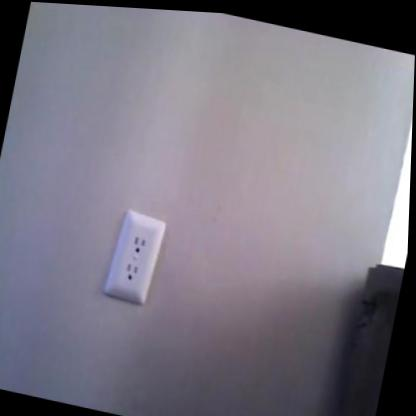OUTLET: (105, 206, 166, 305)
